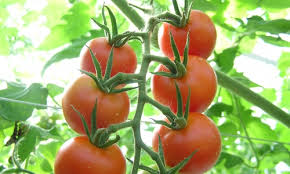tomato: (63, 74, 131, 138), (152, 113, 223, 172), (150, 58, 219, 115), (157, 10, 219, 63), (49, 134, 129, 173), (78, 39, 136, 84)
